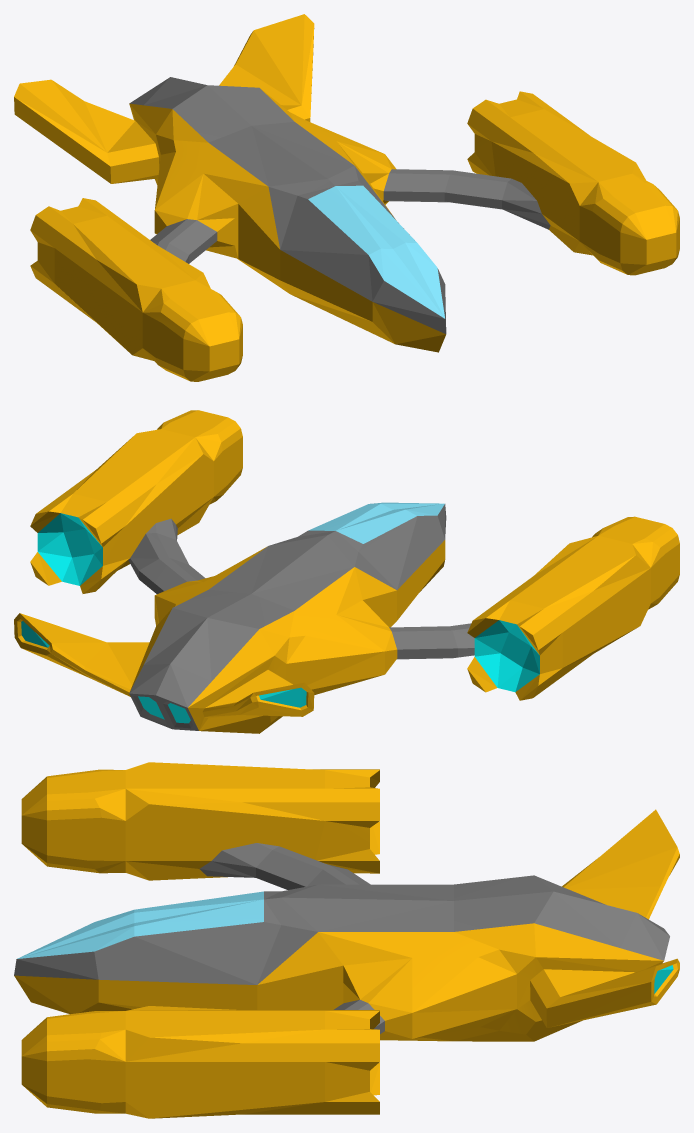
Rendered from Spaceship_1.fbx.
3 renders of one model, top to bottom at view 1: azimuth 30°, elevation 25°; view 2: azimuth 150°, elevation 25°; view 3: azimuth 270°, elevation 25°, orthographic. The views are drawn at different scales.
Parts seen in each view (by area): view 1: _5_1; view 2: _5_1; view 3: _5_1.
Part boxes in pixels (left/top/right/bottom): _5_1: left=14, top=14, right=679, bottom=381; _5_1: left=14, top=410, right=679, bottom=733; _5_1: left=14, top=762, right=679, bottom=1118.
Size of the model in its own units: 827 by 179 by 831.
